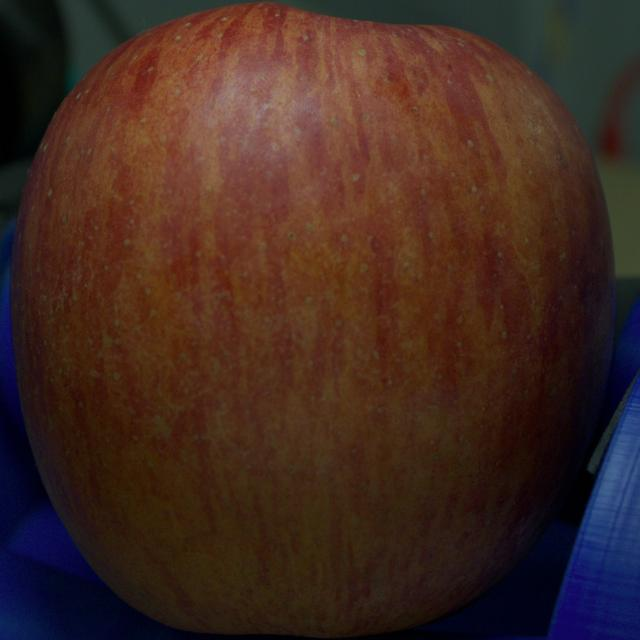apple: (10, 2, 615, 636)
